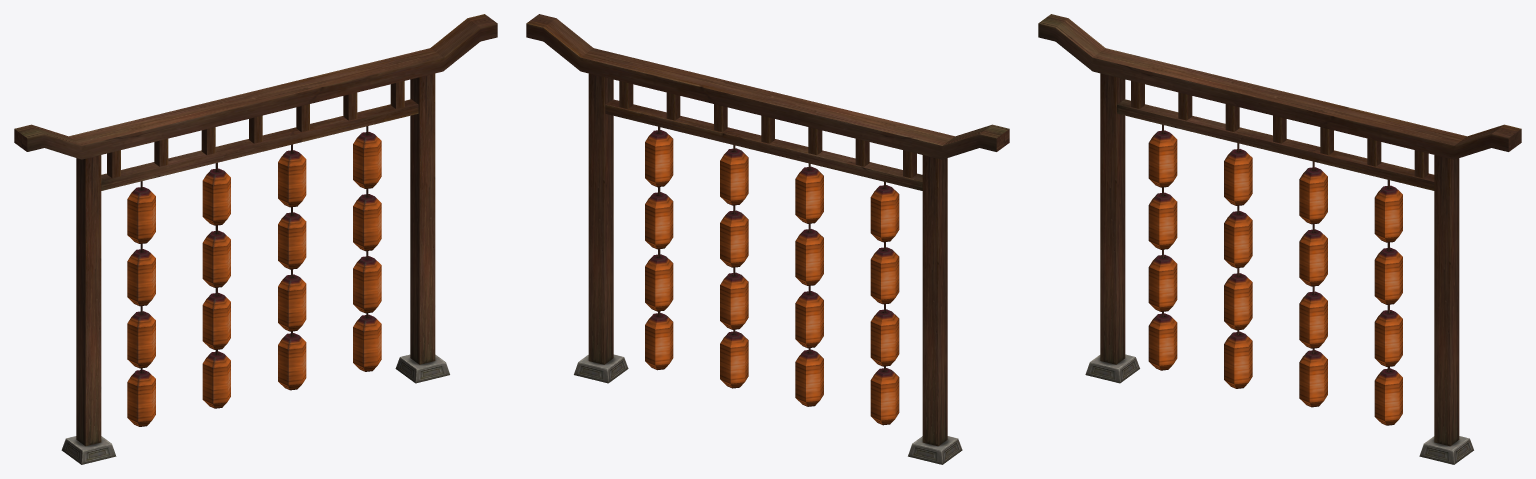
Rendered from zc_long08.FBX.
3 renders of one model, left to right at view 1: azimuth 30°, elevation 25°; view 2: azimuth 150°, elevation 25°; view 3: azimuth 330°, elevation 25°, orthographic.
Parts seen in each view (by area): view 1: 332; view 2: 332; view 3: 332.
Boxes of the visible parts, x1,y1,x2,y2 form: 332: [14, 14, 497, 464]; 332: [526, 14, 1009, 464]; 332: [1038, 14, 1521, 464].
Bounding box in the file's own units: 156 × 107 × 11.53.
